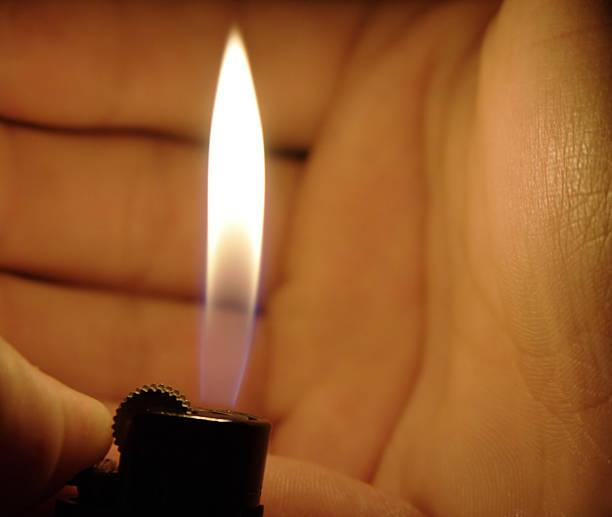Fire: (199, 20, 270, 412)
